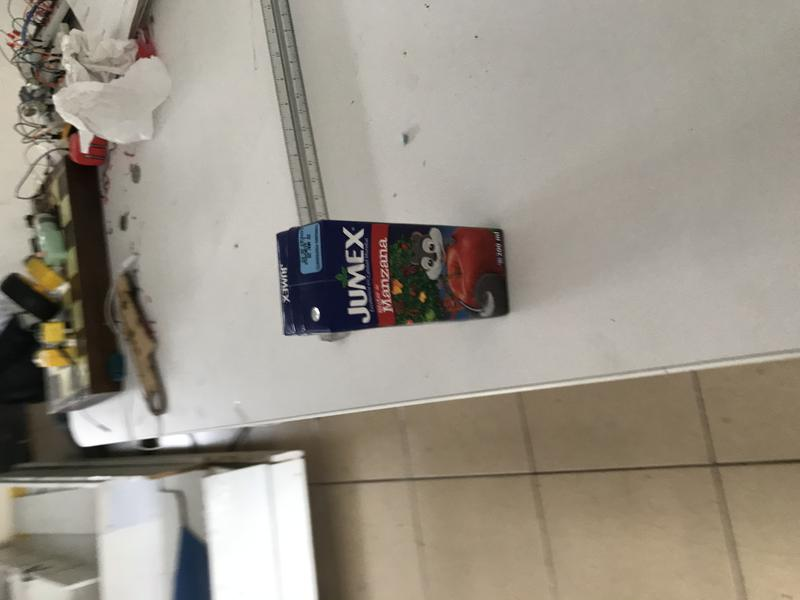jumex_cajita: (276, 219, 511, 337)
